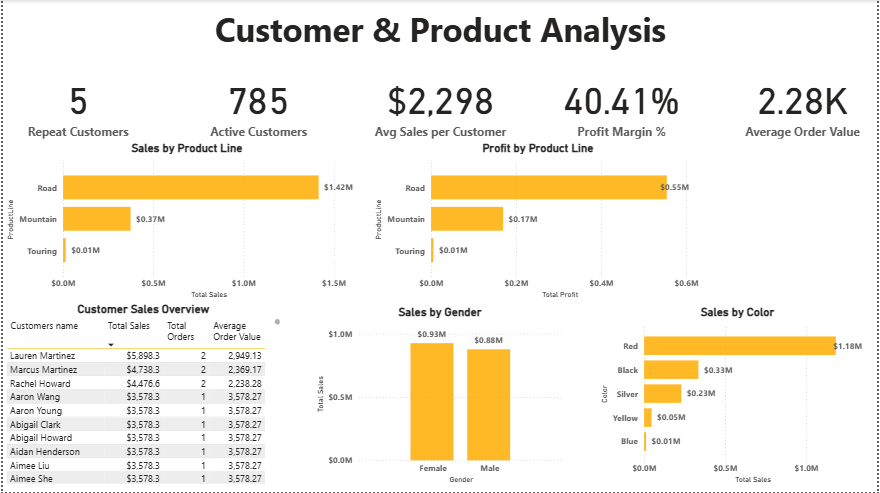

This screenshot's page, from the dashboard's own definition file:
{"tool":"powerbi","page":{"name":"Customer and Product Analysis","canvas":[1280,720],"ordinal":1},"visuals":[{"type":"card","fields":{"Values":["FactInternetSales.Repeat Customers"]},"box":[0,98,220,110],"z":0},{"type":"card","fields":{"Values":["DimCustomer.Active Customers"]},"box":[264,98,221,110],"z":1000},{"type":"card","fields":{"Values":["FactInternetSales.Avg Sales per Customer"]},"box":[529,98,221,110],"z":2000},{"type":"card","fields":{"Values":["FactInternetSales.Profit Margin %"]},"box":[794,98,221,110],"z":3000},{"type":"card","fields":{"Values":["FactInternetSales.Average Order Value"]},"box":[1059,98,221,110],"z":4000},{"type":"clusteredBarChart","title":"Sales by Product Line","fields":{"Category":["DimProduct.ProductLine"],"Y":["FactInternetSales.Total Sales"]},"box":[0,206.3,538.5,235.6],"z":5000},{"type":"clusteredBarChart","title":"Profit by Product Line","fields":{"Category":["DimProduct.ProductLine"],"Y":["FactInternetSales.Total Profit"]},"box":[538.5,206.3,488.8,235.6],"z":6000},{"type":"clusteredColumnChart","title":"Sales by Gender","fields":{"Category":["DimCustomer.Gender"],"Y":["FactInternetSales.Total Sales"]},"box":[453.7,446.3,371.7,266.3],"z":7000},{"type":"barChart","title":"Sales by Color","fields":{"Category":["DimProduct.Color"],"Y":["FactInternetSales.Total Sales"]},"box":[869.3,446.3,411.2,266.3],"z":8000},{"type":"tableEx","title":"Customer Sales Overview","fields":{"Values":["DimCustomer.Customers name","FactInternetSales.Total Sales","FactInternetSales.Total Orders","FactInternetSales.Average Order Value"]},"box":[0,442,411.2,270.7],"z":9000},{"type":"textbox","box":[0,4.4,1280.5,76.1],"z":10000}]}

Visuals, with their boxes in screenshot pixels (x1, y1, x2, y2), scaled from the page's 1280x720 canvas onto the 880x493 screenshot:
card - FactInternetSales.Repeat Customers: select_region(0, 67, 151, 142)
card - DimCustomer.Active Customers: select_region(182, 67, 333, 142)
card - FactInternetSales.Avg Sales per Customer: select_region(364, 67, 516, 142)
card - FactInternetSales.Profit Margin %: select_region(546, 67, 698, 142)
card - FactInternetSales.Average Order Value: select_region(728, 67, 879, 142)
"Sales by Product Line" clusteredBarChart: select_region(0, 141, 370, 303)
"Profit by Product Line" clusteredBarChart: select_region(370, 141, 706, 303)
"Sales by Gender" clusteredColumnChart: select_region(312, 306, 567, 488)
"Sales by Color" barChart: select_region(598, 306, 879, 488)
"Customer Sales Overview" tableEx: select_region(0, 303, 283, 488)
textbox: select_region(0, 3, 879, 55)
